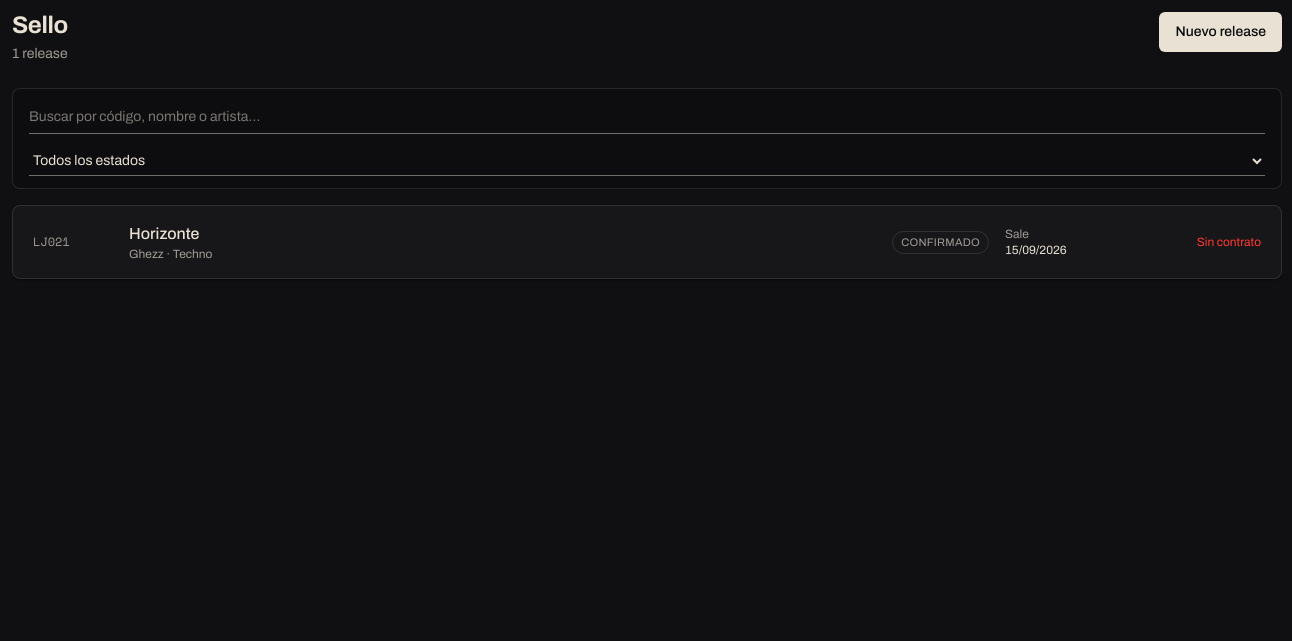
Test case: el tracklist › un release sin formato pide elegirlo antes que nada
The width and height of the screenshot is (1292, 641).
Step 1. Click the text "Horizonte" → (164, 234), box [129,225,199,242]
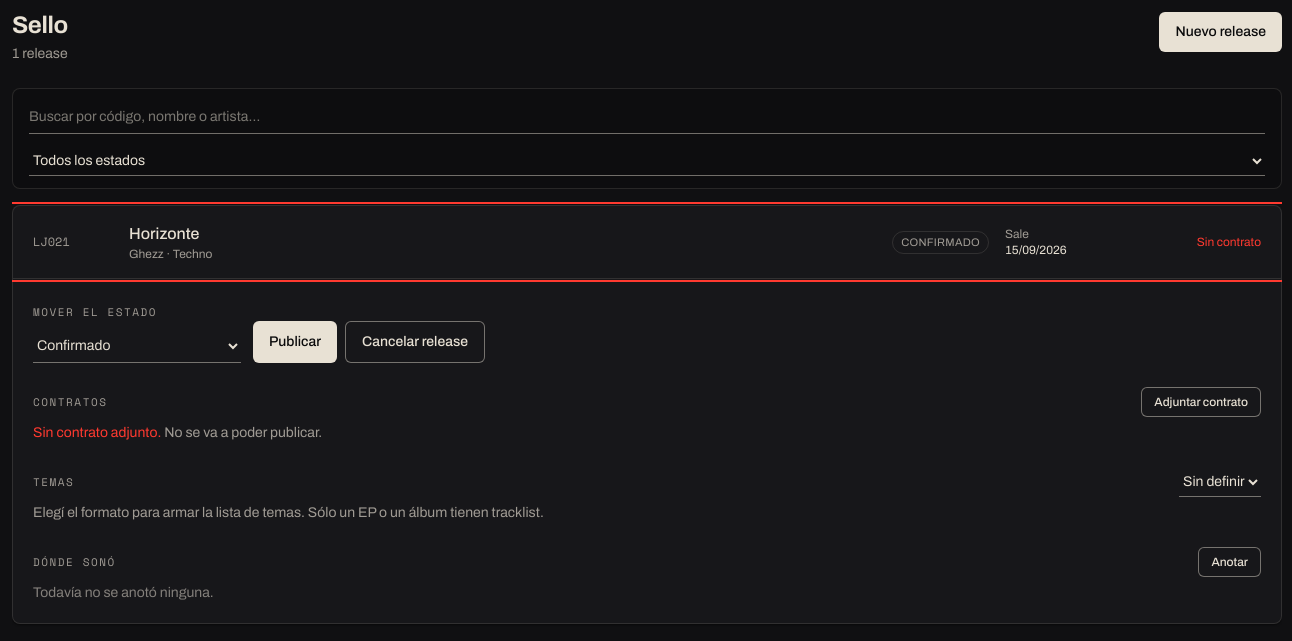
Expected: the text "Elegí el formato" is shown, [33,505,305,520]
